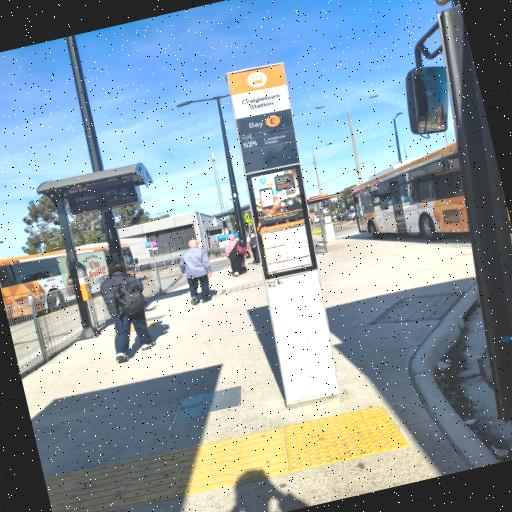signage: (225, 63, 342, 410)
tgsi: (44, 405, 408, 512)
